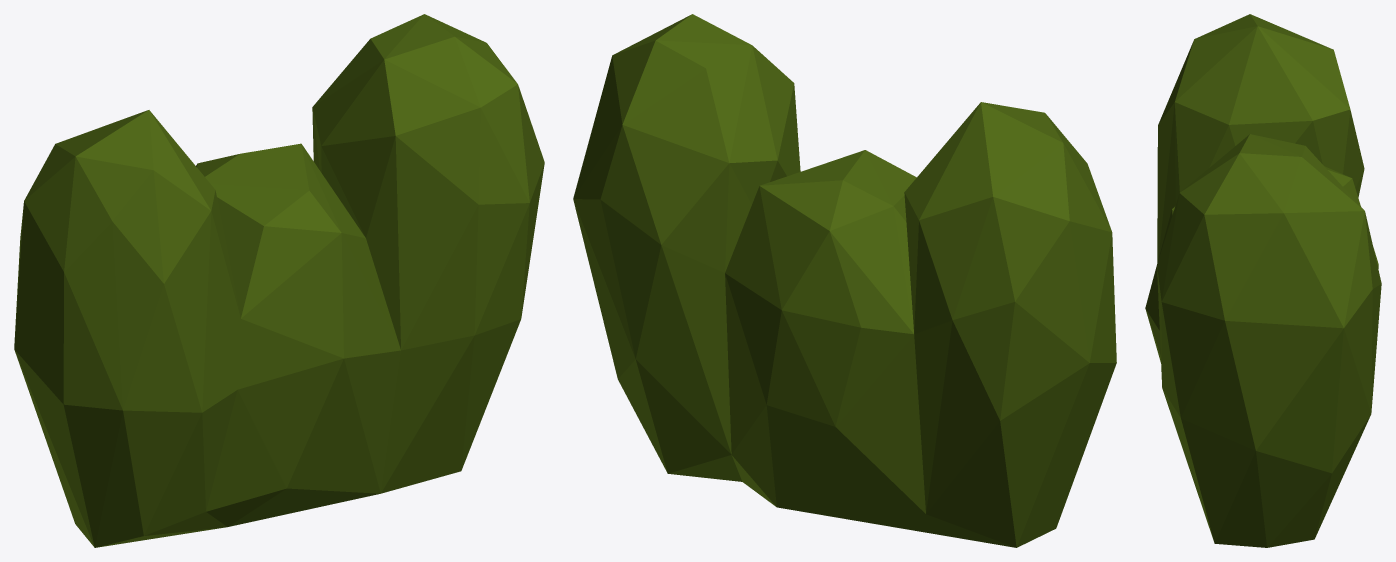
Rendered from TreesAndBushes_002.fbx.
The picture shows the model from 3 angles, left to right: view 1: azimuth 30°, elevation 25°; view 2: azimuth 150°, elevation 25°; view 3: azimuth 270°, elevation 25°; orthographic projection. The views are drawn at different scales.
Visible parts, largest first — view 1: TreesAndBushes_002; view 2: TreesAndBushes_002; view 3: TreesAndBushes_002.
Boxes of the visible parts, <box> form: TreesAndBushes_002: <box>14,14,544,547</box>; TreesAndBushes_002: <box>573,14,1116,547</box>; TreesAndBushes_002: <box>1145,14,1381,547</box>.
Bounding box in the file's own units: 88.67 × 71.79 × 39.05.
